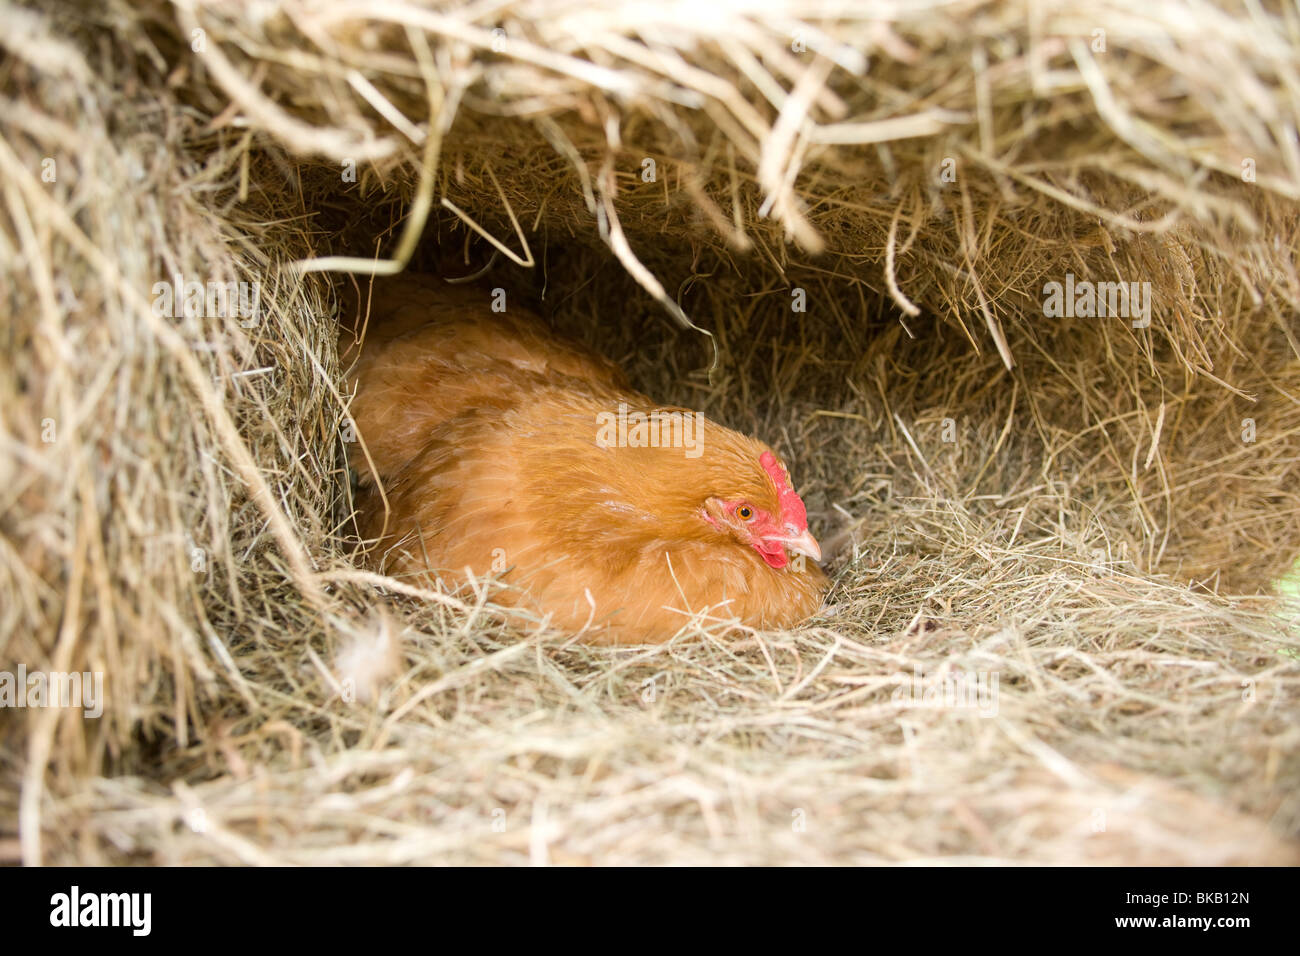buff: (624, 436, 863, 641)
